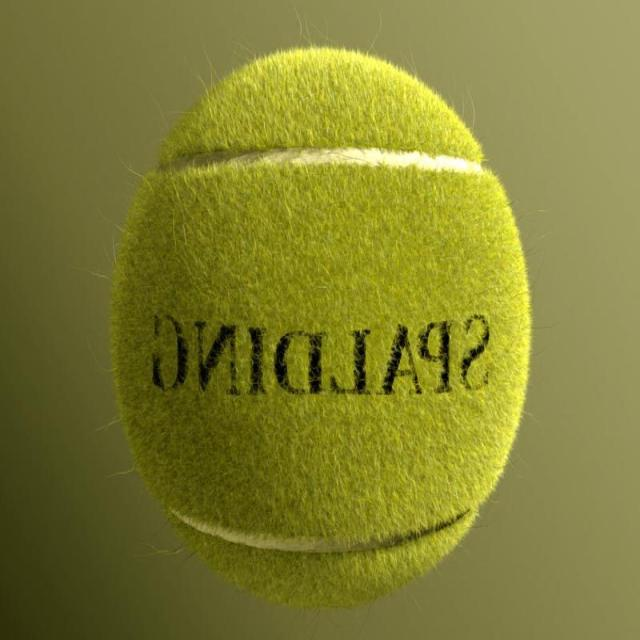Tennis Ball: (109, 46, 533, 613)
